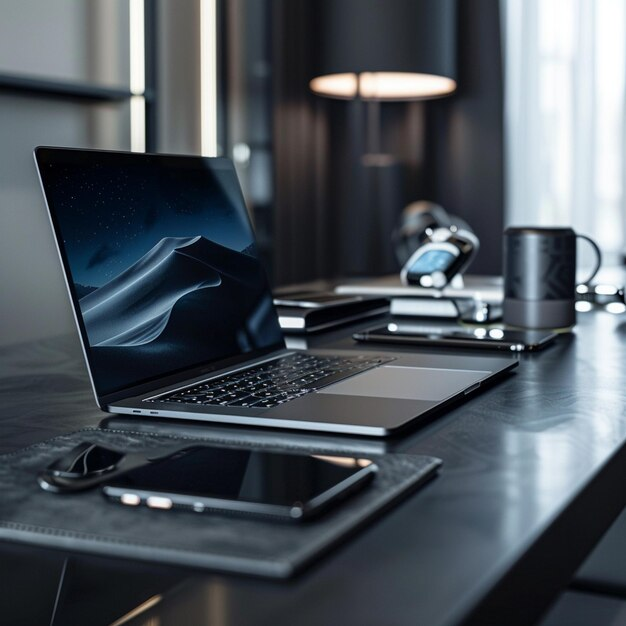not a gesture sign: (36, 148, 516, 435)
